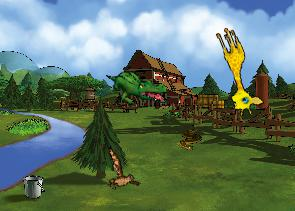crocodile: (106, 67, 168, 108)
eagle: (90, 145, 149, 201)
giraffe: (204, 24, 266, 119)
